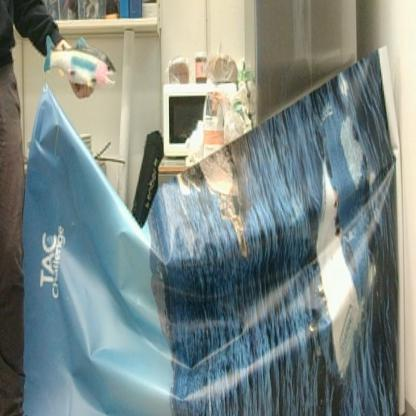rubberfish: (44, 30, 118, 88)
